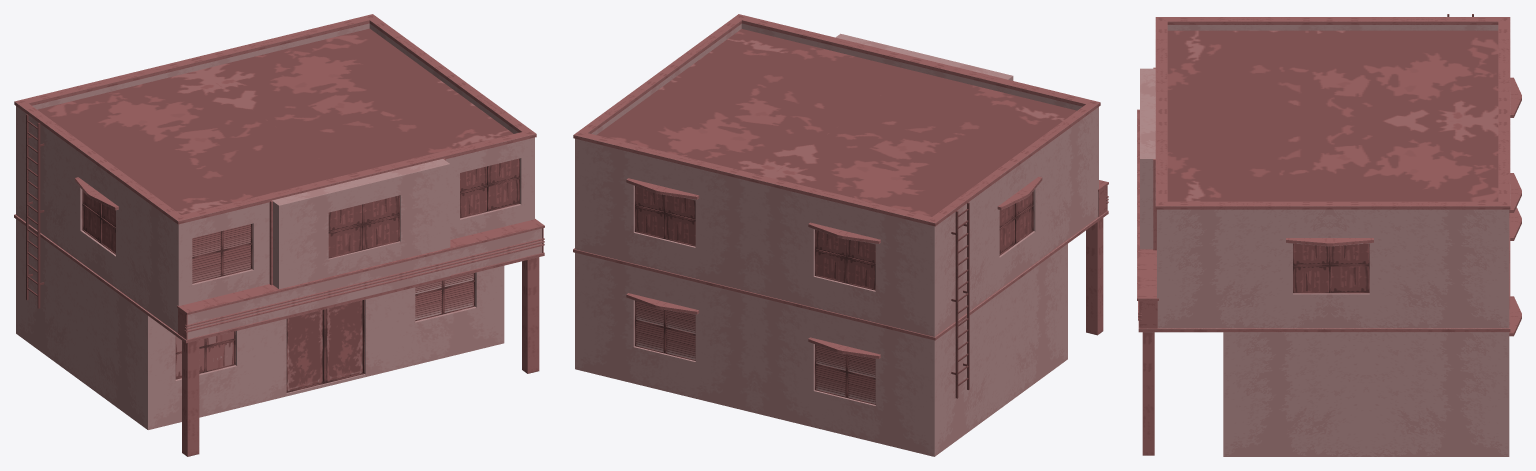
The model's file is Building1.obj.
3 views of the same model, side by side, from view 1: azimuth 30°, elevation 25°; view 2: azimuth 150°, elevation 25°; view 3: azimuth 270°, elevation 25° (orthographic). The views are drawn at different scales.
Parts seen in each view (by area): view 1: building; view 2: building; view 3: building.
Part boxes in pixels (x1=…): building: x1=14, y1=14, x2=544, y2=456; building: x1=573, y1=14, x2=1108, y2=456; building: x1=1137, y1=14, x2=1521, y2=456.
Size of the model in its own units: 10174 by 6003 by 8322.
